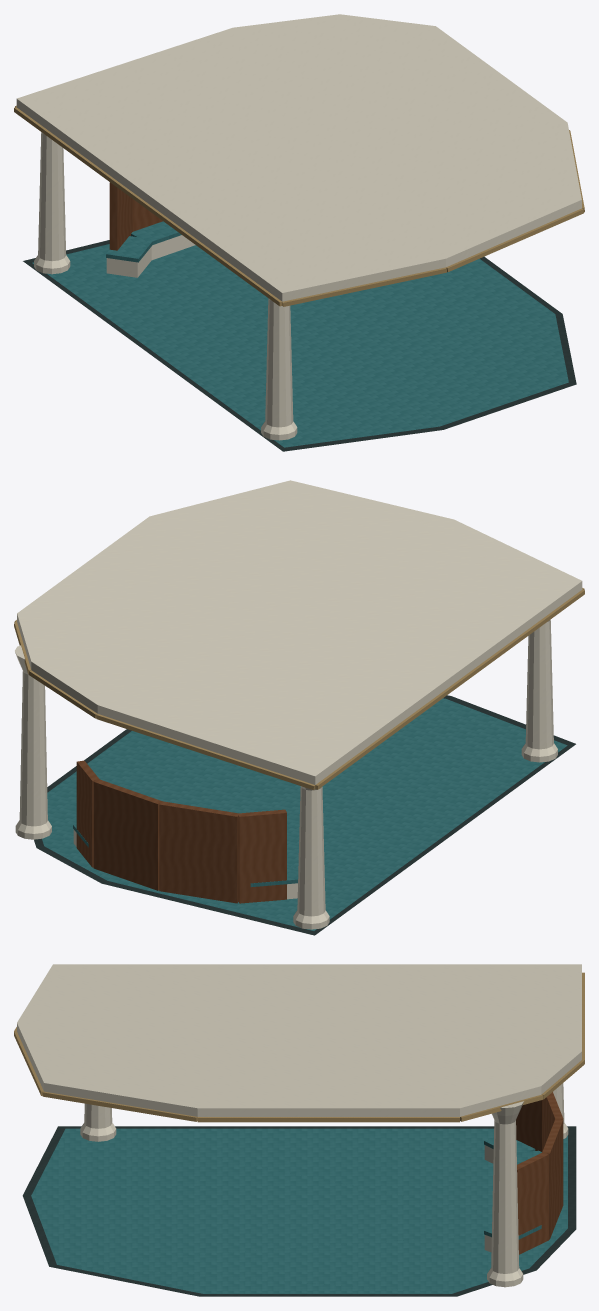
File: AST-AQU-014.glb
The picture shows the model from 3 angles, top to bottom: view 1: azimuth 30°, elevation 25°; view 2: azimuth 150°, elevation 25°; view 3: azimuth 270°, elevation 25°; orthographic projection.
Parts seen in each view (by area): view 1: ARR_static_ivory_enamel, ARR_finish_wet_tile, ARR_finish_grip, ARR_static_champagne_metal, ARR_static_warm_walnut, ARR_static_wet_tile; view 2: ARR_static_ivory_enamel, ARR_finish_wet_tile, ARR_static_warm_walnut, ARR_static_champagne_metal, ARR_finish_grip; view 3: ARR_static_ivory_enamel, ARR_finish_wet_tile, ARR_static_warm_walnut, ARR_finish_grip, ARR_static_champagne_metal, ARR_static_wet_tile.
Part boxes in pixels (x1,y1,x2,y2): ARR_static_ivory_enamel: (16,14,581,440); ARR_finish_wet_tile: (32,244,568,447); ARR_finish_grip: (23,240,576,451); ARR_static_champagne_metal: (14,105,584,306); ARR_static_warm_walnut: (109,182,162,250); ARR_static_wet_tile: (106,221,181,262); ARR_static_ivory_enamel: (15,480,582,929); ARR_finish_wet_tile: (42,698,567,930); ARR_static_warm_walnut: (76,760,286,903); ARR_static_champagne_metal: (14,588,584,790); ARR_finish_grip: (34,695,575,935); ARR_static_ivory_enamel: (17,964,581,1287); ARR_finish_wet_tile: (31,1128,567,1293); ARR_static_warm_walnut: (516,1092,563,1254); ARR_finish_grip: (22,1126,576,1296); ARR_static_champagne_metal: (14,972,584,1122); ARR_static_wet_tile: (484,1137,541,1239).
Bounding box in the file's own units: 9.23 × 4.65 × 12.63.
Materials: 6 (5 with a texture image).
